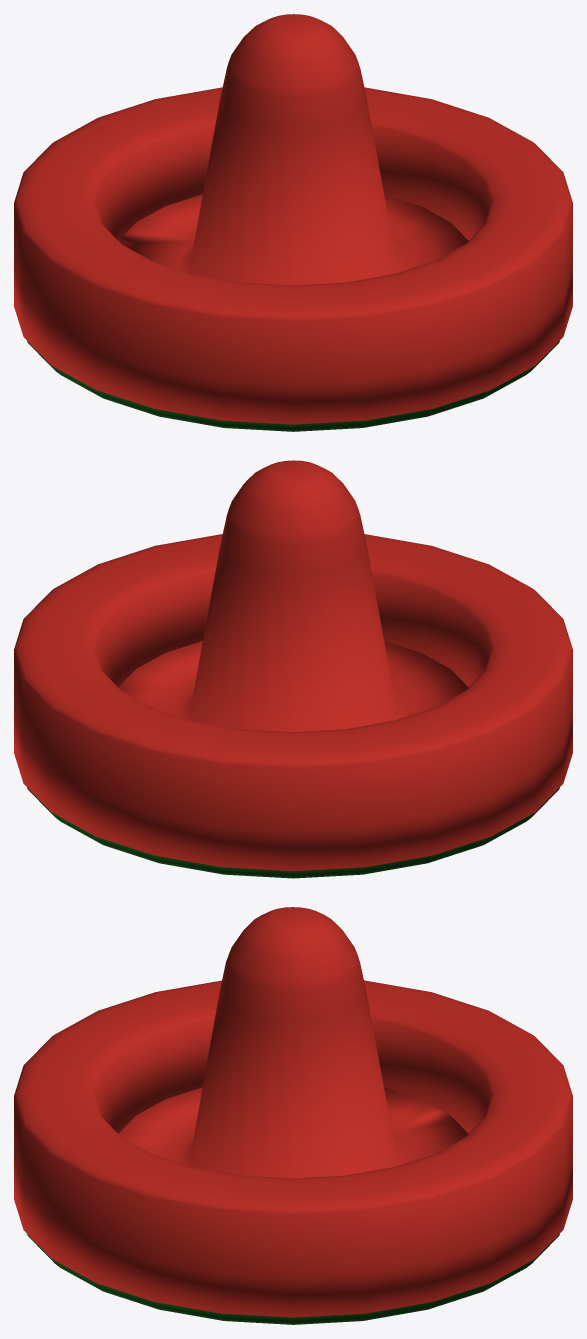
Rendered from Air Hockey paddle.fbx.
3 views of the same model, one above another, from view 1: azimuth 30°, elevation 25°; view 2: azimuth 150°, elevation 25°; view 3: azimuth 270°, elevation 25° (orthographic).
Visible parts, largest first — view 1: Cylinder; view 2: Cylinder; view 3: Cylinder.
Part boxes in pixels (x1,y1,x2,y2): Cylinder: [14, 14, 572, 431]; Cylinder: [14, 460, 572, 878]; Cylinder: [14, 907, 572, 1324].
Size of the model in its own units: 728 by 428 by 728.
